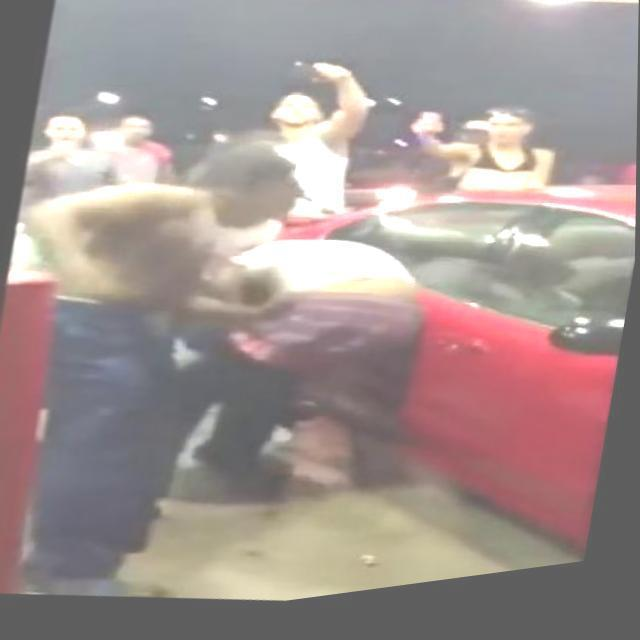fight: (0, 95, 463, 625)
